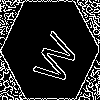W: (25, 25, 80, 89)
